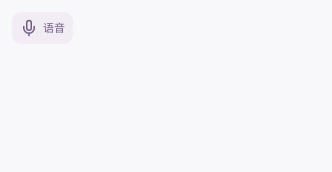
it: director voice input › stops before 60 seconds to allow container tail frames without automatically sending it
The width and height of the screenshot is (332, 172).
Later steps or results of the test are not shown.
Click the button with aria-label "语音输入".
click(42, 28)  # box 12,12 -> 73,44
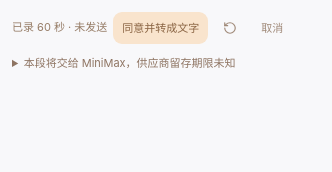
Expected: the text "已录 60 秒 · 未发送" is shown, 12,19 -> 107,37
